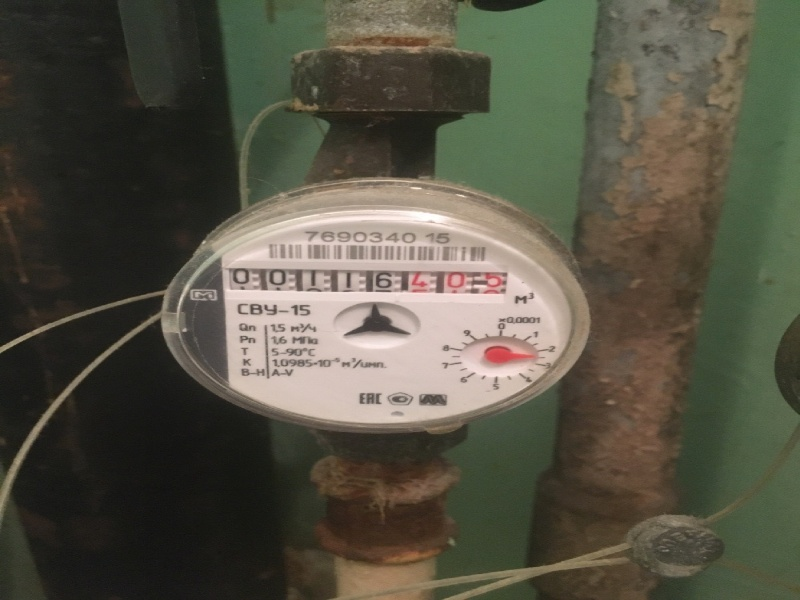meter: (224, 262, 510, 302)
